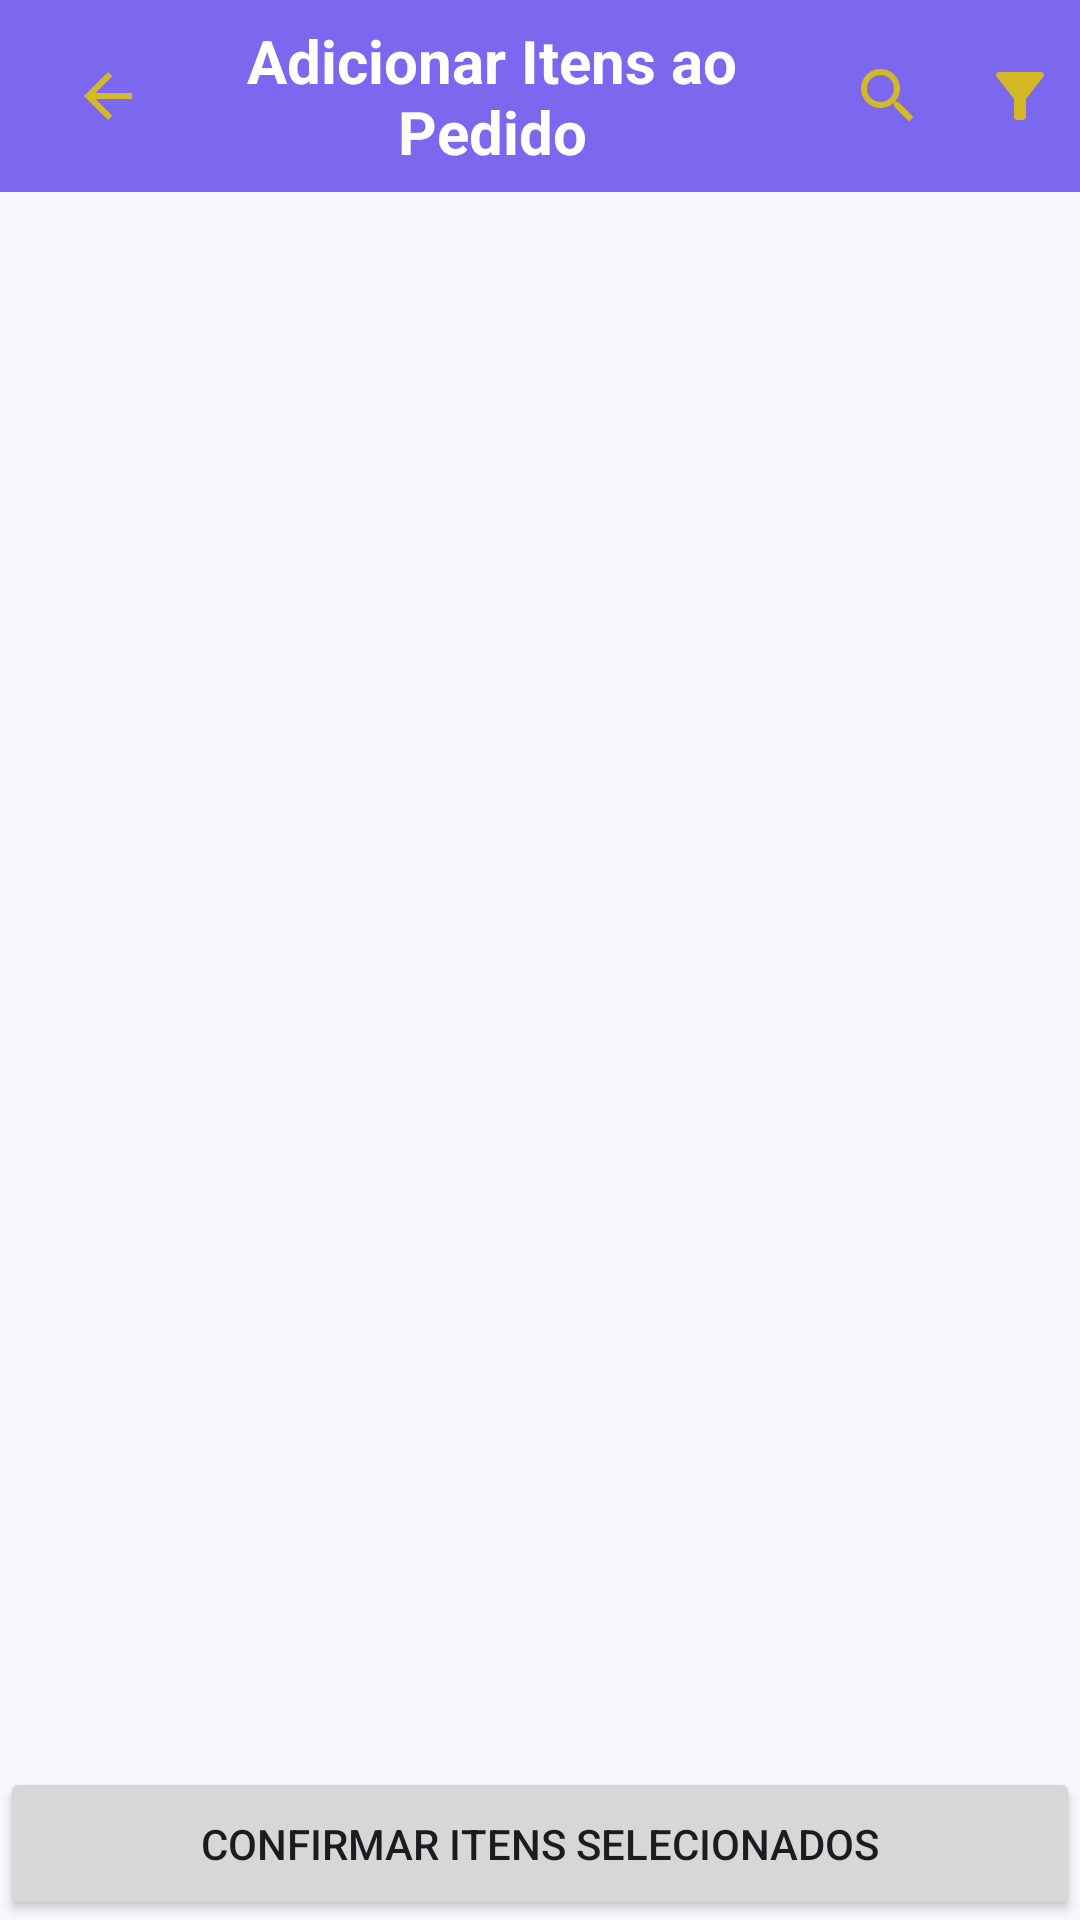

Icon click points for this 1080x1920 phone screenshot, format (x,y):
Filtrar Produtos: (1020,96)
Voltar: (108,96)
